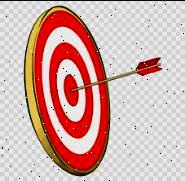target_red: (23, 5, 110, 176)
